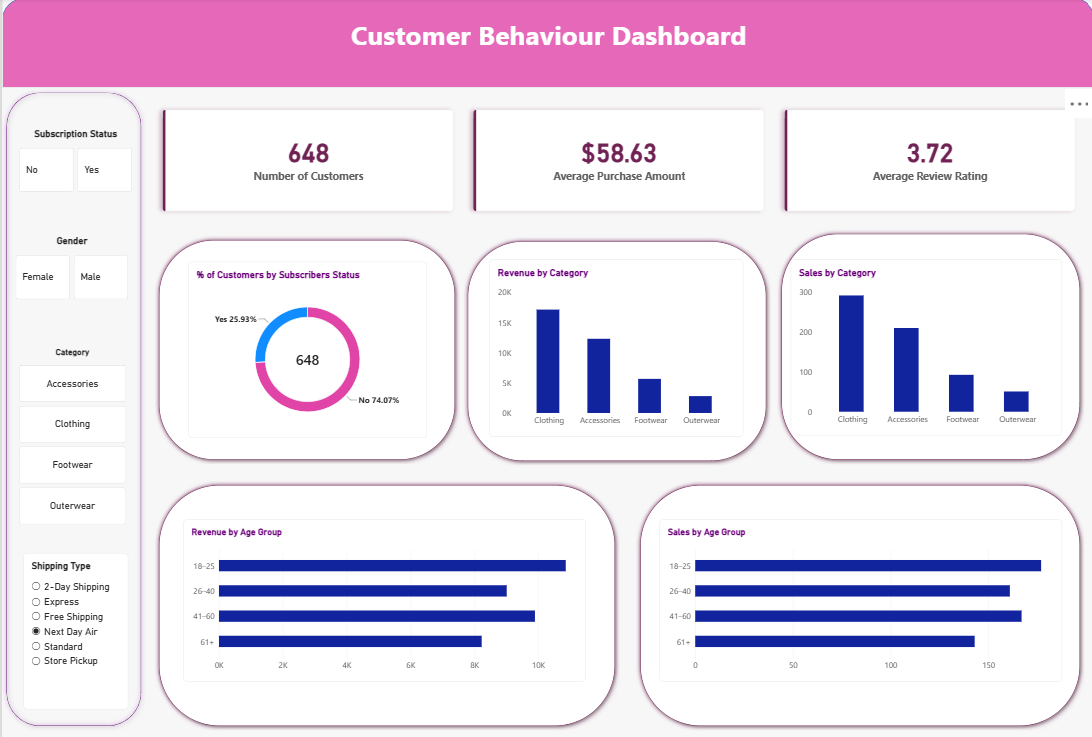

The page's visual inventory and layout, read from the dashboard file:
{"tool":"powerbi","page":{"name":"Page 1","canvas":[2200,1500],"ordinal":0},"visuals":[{"type":"cardVisual","fields":{"Data":["customer_behaviour customer.Number of Customers","customer_behaviour customer.Average Purchase Amount","customer_behaviour customer.Average Review Rating"]},"box":[306.6,208.6,1870,236.3],"z":0},{"type":"shape","box":[0,0,2199.2,181],"z":1000},{"type":"textbox","box":[0,37.7,2199.2,103.1],"z":2000},{"type":"shape","box":[306.6,477.5,613.3,460],"z":3000},{"type":"donutChart","title":"% of Customers by Subscribers Status","fields":{"Category":["customer_behaviour customer.subscription_status"],"Y":["Count(customer_behaviour customer.customer_id)"]},"box":[374.5,530.3,480.1,354.4],"z":4000},{"type":"shape","box":[0,181,289,1291.9],"z":5000},{"type":"shape","box":[927.5,480.1,618.3,460],"z":6000},{"type":"shape","box":[1558.3,465,618.3,472.5],"z":7000},{"type":"clusteredColumnChart","title":"Revenue by Category","fields":{"Category":["customer_behaviour customer.category"],"Y":["Sum(customer_behaviour customer.purchase_amount)"]},"box":[980.2,525.3,510.2,356.9],"z":8000},{"type":"columnChart","title":"Sales by Category","fields":{"Category":["customer_behaviour customer.category"],"Y":["CountNonNull(customer_behaviour customer.customer_id)"]},"box":[1586,525.3,545.4,354.4],"z":9000},{"type":"advancedSlicerVisual","title":"Category","fields":{"Values":["customer_behaviour customer.category"]},"box":[35.2,701.2,213.6,356.9],"z":10000},{"type":"listSlicer","title":"Shipping Type","fields":{"Values":["customer_behaviour customer.shipping_type"]},"box":[42.7,1116,211.1,314.2],"z":11000},{"type":"shape","box":[306.6,970.2,935,502.7],"z":12000},{"type":"clusteredBarChart","title":"Revenue by Age Group","fields":{"Category":["customer_behaviour customer.age_group"],"Y":["Sum(customer_behaviour customer.purchase_amount)"]},"box":[364.4,1048.1,809.3,326.7],"z":13000},{"type":"shape","box":[1274.3,970.2,902.3,502.7],"z":14000},{"type":"clusteredBarChart","title":"Sales by Age Group","fields":{"Category":["customer_behaviour customer.age_group"],"Y":["CountNonNull(customer_behaviour customer.customer_id)"]},"box":[1322.1,1048.1,809.3,326.7],"z":15000},{"type":"advancedSlicerVisual","title":"Subscription Status","fields":{"Values":["customer_behaviour customer.subscription_status"]},"box":[35.2,261.4,226.2,128.2],"z":16000},{"type":"advancedSlicerVisual","title":"Gender","fields":{"Values":["customer_behaviour customer.gender"]},"box":[27.6,477.5,226.2,128.2],"z":17000}]}

Visuals, with their boxes in screenshot pixels (x1, y1, x2, y2), scaled from the page's 2200x1500 canvas onto the 1092x737 screenshot:
cardVisual - customer_behaviour customer.Number of Customers x customer_behaviour customer.Average Purchase Amount: BBox(152, 102, 1080, 219)
shape: BBox(0, 0, 1091, 89)
textbox: BBox(0, 19, 1091, 69)
shape: BBox(152, 235, 457, 461)
"% of Customers by Subscribers Status" donutChart: BBox(186, 261, 424, 435)
shape: BBox(0, 89, 143, 724)
shape: BBox(460, 236, 767, 462)
shape: BBox(773, 228, 1080, 461)
"Revenue by Category" clusteredColumnChart: BBox(487, 258, 740, 433)
"Sales by Category" columnChart: BBox(787, 258, 1058, 432)
"Category" advancedSlicerVisual: BBox(17, 345, 123, 520)
"Shipping Type" listSlicer: BBox(21, 548, 126, 703)
shape: BBox(152, 477, 616, 724)
"Revenue by Age Group" clusteredBarChart: BBox(181, 515, 583, 675)
shape: BBox(633, 477, 1080, 724)
"Sales by Age Group" clusteredBarChart: BBox(656, 515, 1058, 675)
"Subscription Status" advancedSlicerVisual: BBox(17, 128, 130, 191)
"Gender" advancedSlicerVisual: BBox(14, 235, 126, 298)
